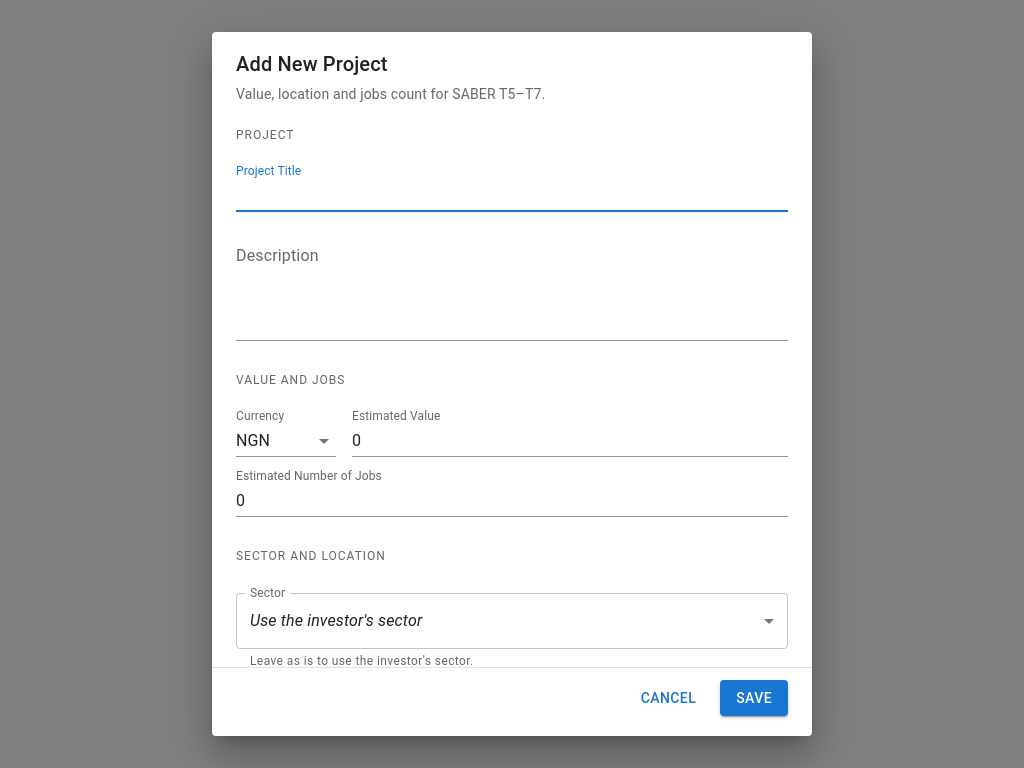
it: ProjectForm › shows a generic message for other save errors
Click the button "Save": (754, 698) top-left (720, 680), bottom-right (788, 716)
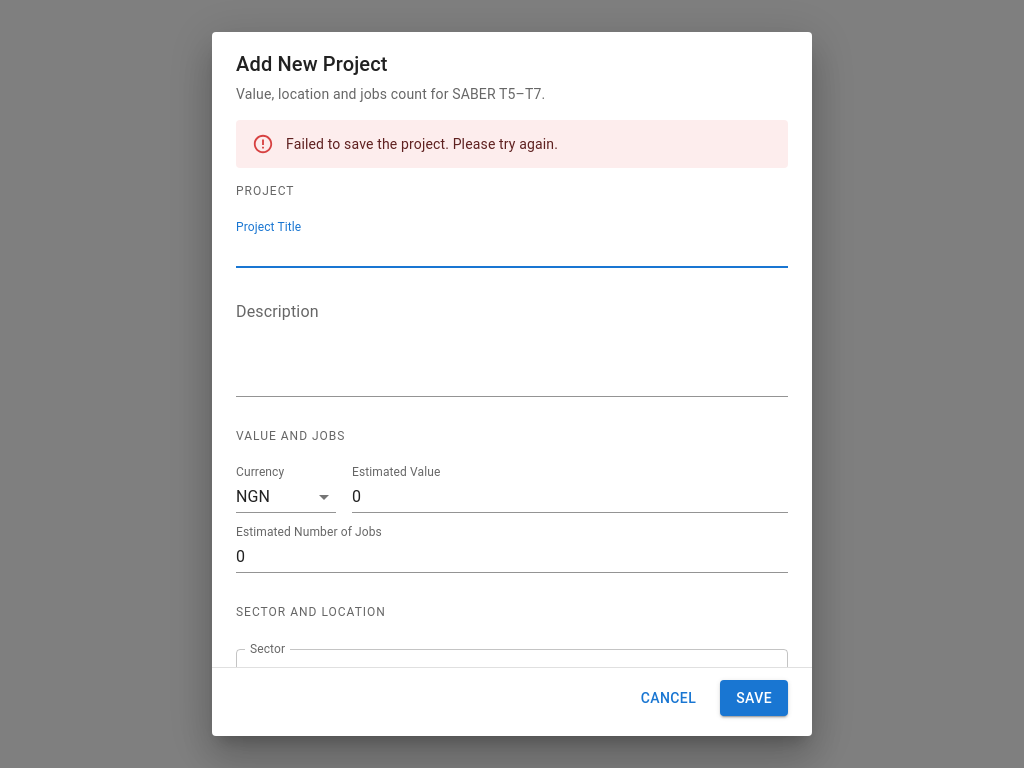
Expected: the message does not show "assigned to you", top-left (236, 120), bottom-right (788, 168)
Result: the message shows "Failed to save the project" at top-left (286, 136), bottom-right (558, 152)
